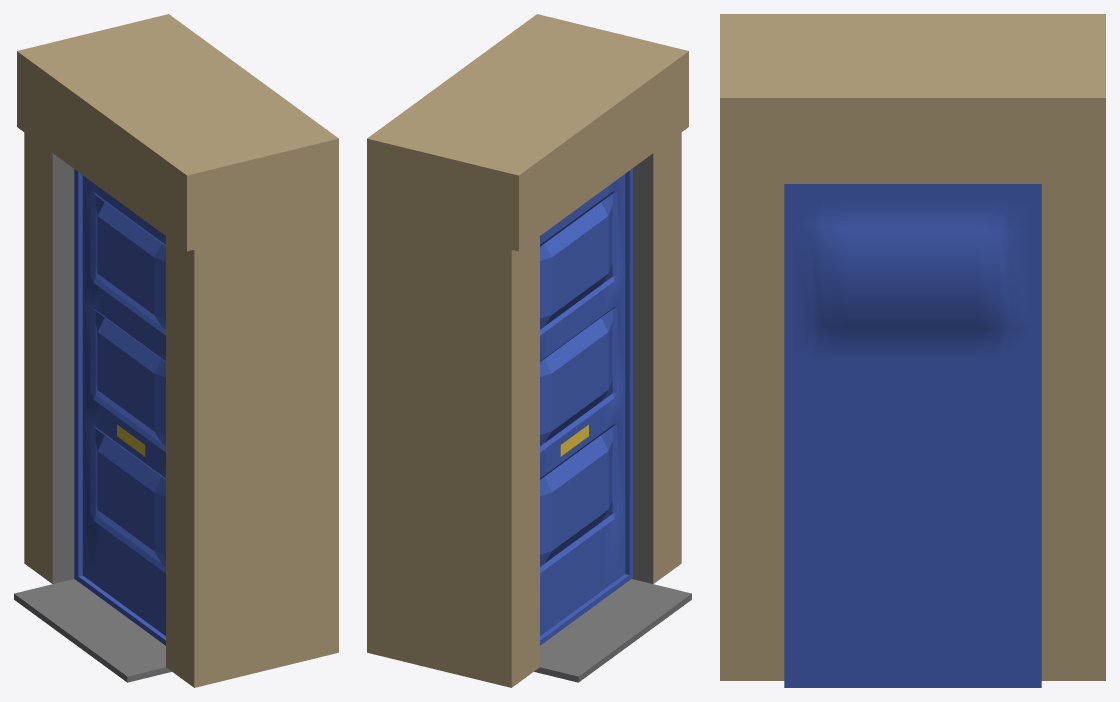
File: SingleDoor1.fbx
3 renders of one model, left to right at view 1: azimuth 30°, elevation 25°; view 2: azimuth 150°, elevation 25°; view 3: azimuth 270°, elevation 25°, orthographic. The views are drawn at different scales.
Parts seen in each view (by area): view 1: SingleDoor1; view 2: SingleDoor1; view 3: SingleDoor1.
Part boxes in pixels (x1=…): SingleDoor1: x1=14, y1=14, x2=338, y2=687; SingleDoor1: x1=367, y1=14, x2=691, y2=687; SingleDoor1: x1=720, y1=14, x2=1105, y2=687.
Bounding box in the file's own units: 29.72 × 79.67 × 47.24.
